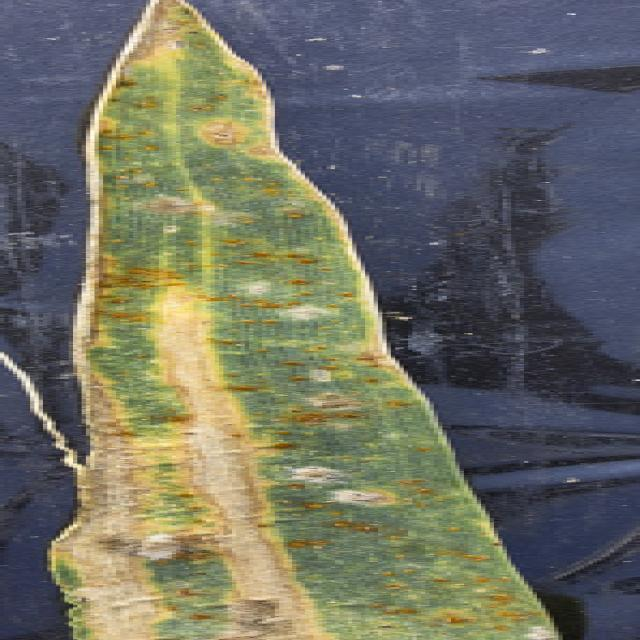wheat-powdery-mildew: (34, 0, 554, 640)
